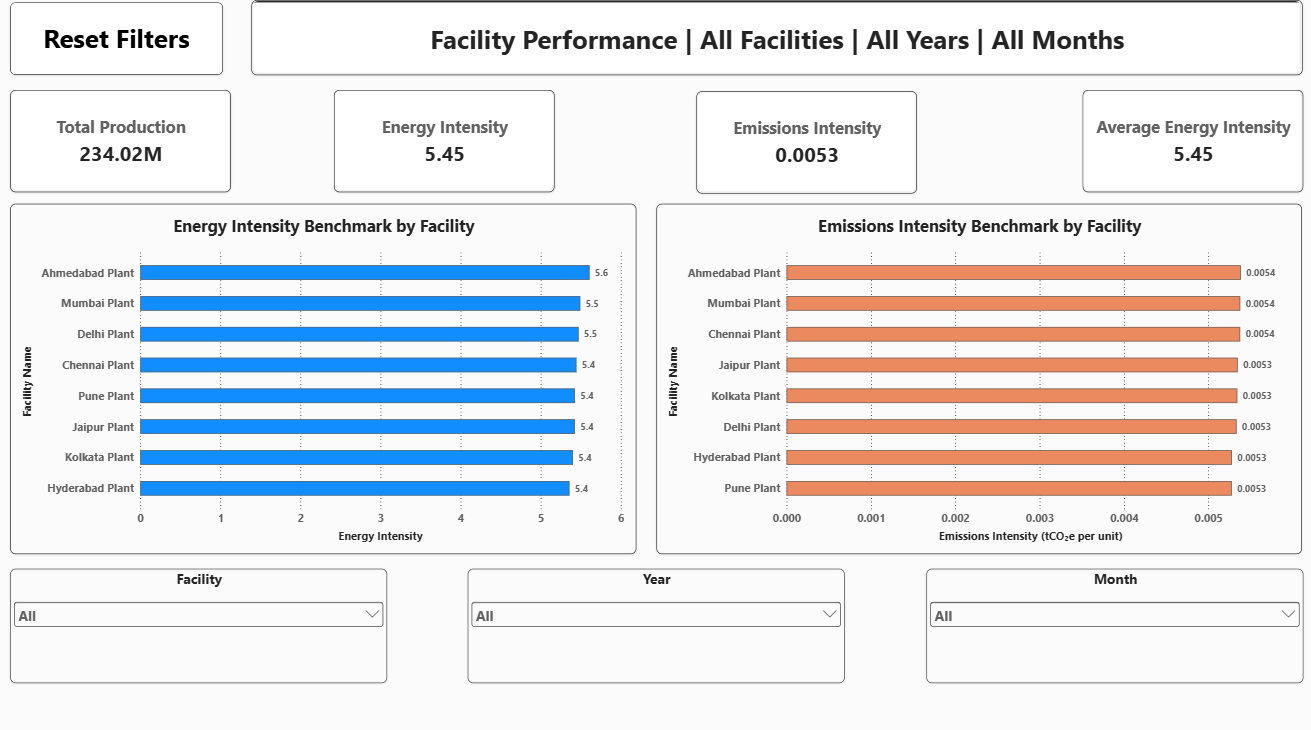

The dashboard page shown, as its layout file describes it:
{"tool":"powerbi","page":{"name":"Facility Performance","canvas":[1920,1080],"ordinal":3},"visuals":[{"type":"cardVisual","fields":{"Data":["Measure.Total Production"]},"box":[24.3,145.7,319.6,147.8],"z":0,"group":"g1"},{"type":"clusteredBarChart","title":"Energy Intensity Benchmark by Facility","fields":{"Category":["DimFacility.facility_name"],"Y":["Measure.Energy Intensity"]},"box":[24,309.4,906.1,506.9],"z":0},{"type":"slicer","title":"Facility","fields":{"Values":["DimFacility.facility_name"]},"box":[23.8,837.9,545.7,165.2],"z":0,"group":"g2"},{"type":"cardVisual","fields":{"Data":["Measure.Facility Performance Dynamic Title"]},"box":[372.8,14.5,1521.8,108.7],"z":1000},{"type":"cardVisual","fields":{"Data":["Measure.Average Energy Intensity"]},"box":[1576.6,144.8,319.6,147.8],"z":1000,"group":"g1"},{"type":"slicer","title":"Month","fields":{"Values":["DimDate.Month"]},"box":[1349.5,838.3,545.7,165.2],"z":1000,"group":"g2"},{"type":"cardVisual","fields":{"Data":["Measure.Emissions Intensity"]},"box":[1017.4,146.6,319.6,147.8],"z":2000,"group":"g1"},{"type":"clusteredBarChart","title":"Emissions Intensity Benchmark by Facility","fields":{"Category":["DimFacility.facility_name"],"Y":["Measure.Emissions Intensity"]},"box":[960,309.4,934.1,506.9],"z":2000},{"type":"slicer","title":"Year","fields":{"Values":["DimDate.Year"]},"box":[686.8,838.3,545.7,165.2],"z":2000,"group":"g2"},{"type":"actionButton","box":[23.5,18.1,307.6,105],"z":3000},{"type":"group","id":"g1","title":"Group 1","box":[24.3,144.8,1871.9,149.6],"z":3000,"group":"g2"},{"type":"cardVisual","fields":{"Data":["Measure.Energy Intensity"]},"box":[492.6,144.8,319.6,147.8],"z":3000,"group":"g1"},{"type":"group","id":"g2","title":"Group 2","box":[23.8,144.8,1872.4,858.7],"z":4000}]}

Visuals, with their boxes in screenshot pixels (x1, y1, x2, y2), scaled from the page's 1920x1080 canvas onto the 1311x730 screenshot:
cardVisual - Measure.Total Production: 17,98,235,198
"Energy Intensity Benchmark by Facility" clusteredBarChart: 16,209,635,552
"Facility" slicer: 16,566,389,678
cardVisual - Measure.Facility Performance Dynamic Title: 255,10,1294,83
cardVisual - Measure.Average Energy Intensity: 1077,98,1295,198
"Month" slicer: 921,567,1294,678
cardVisual - Measure.Emissions Intensity: 695,99,913,199
"Emissions Intensity Benchmark by Facility" clusteredBarChart: 656,209,1293,552
"Year" slicer: 469,567,842,678
actionButton: 16,12,226,83
"Group 1" group: 17,98,1295,199
cardVisual - Measure.Energy Intensity: 336,98,555,198
"Group 2" group: 16,98,1295,678
